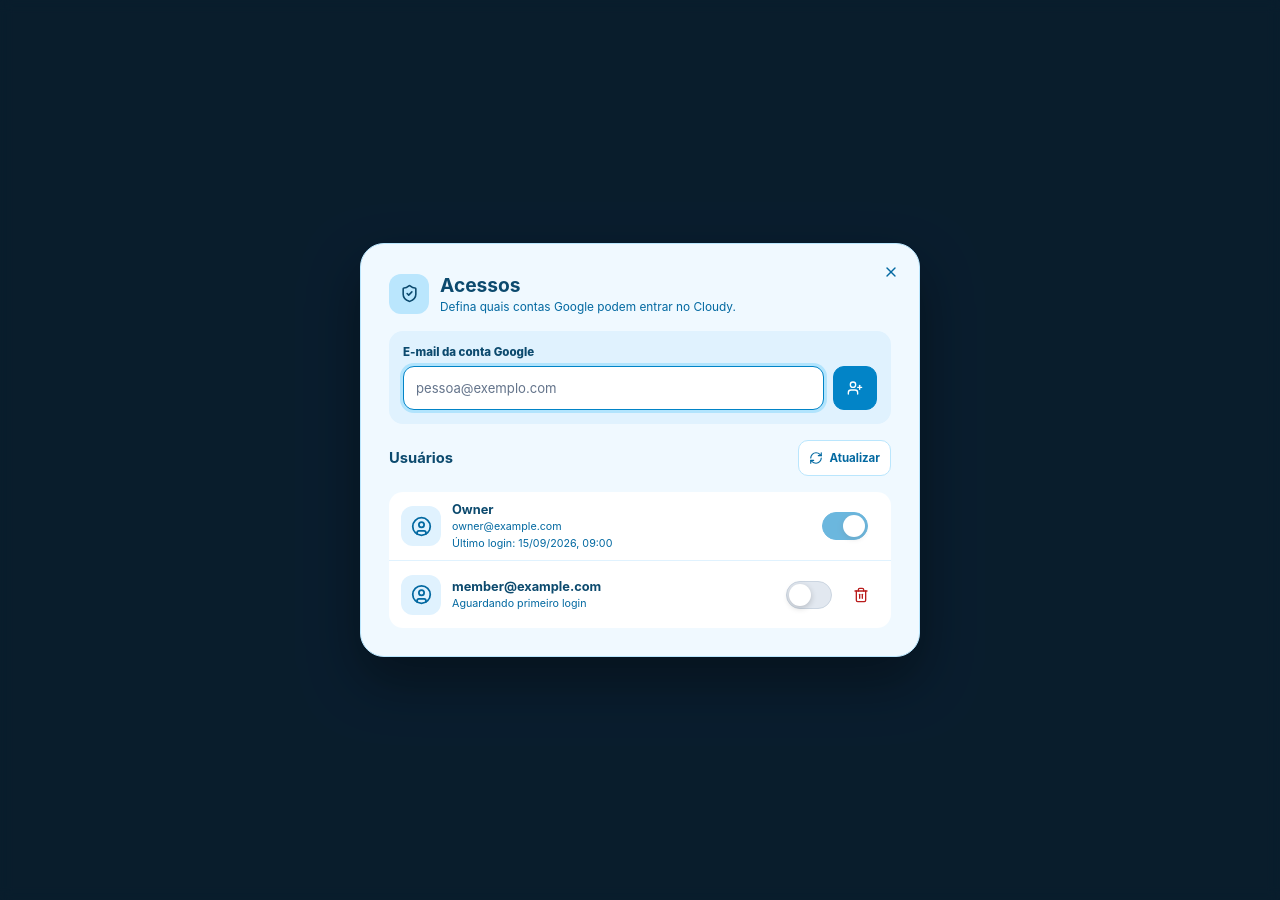
it: AccessAdminDialog › exclui um membro sem afetar o proprietário
Step 1. Click the button named "Excluir acesso de member@example.com" → (861, 595), box left=843, top=577, right=879, bottom=613
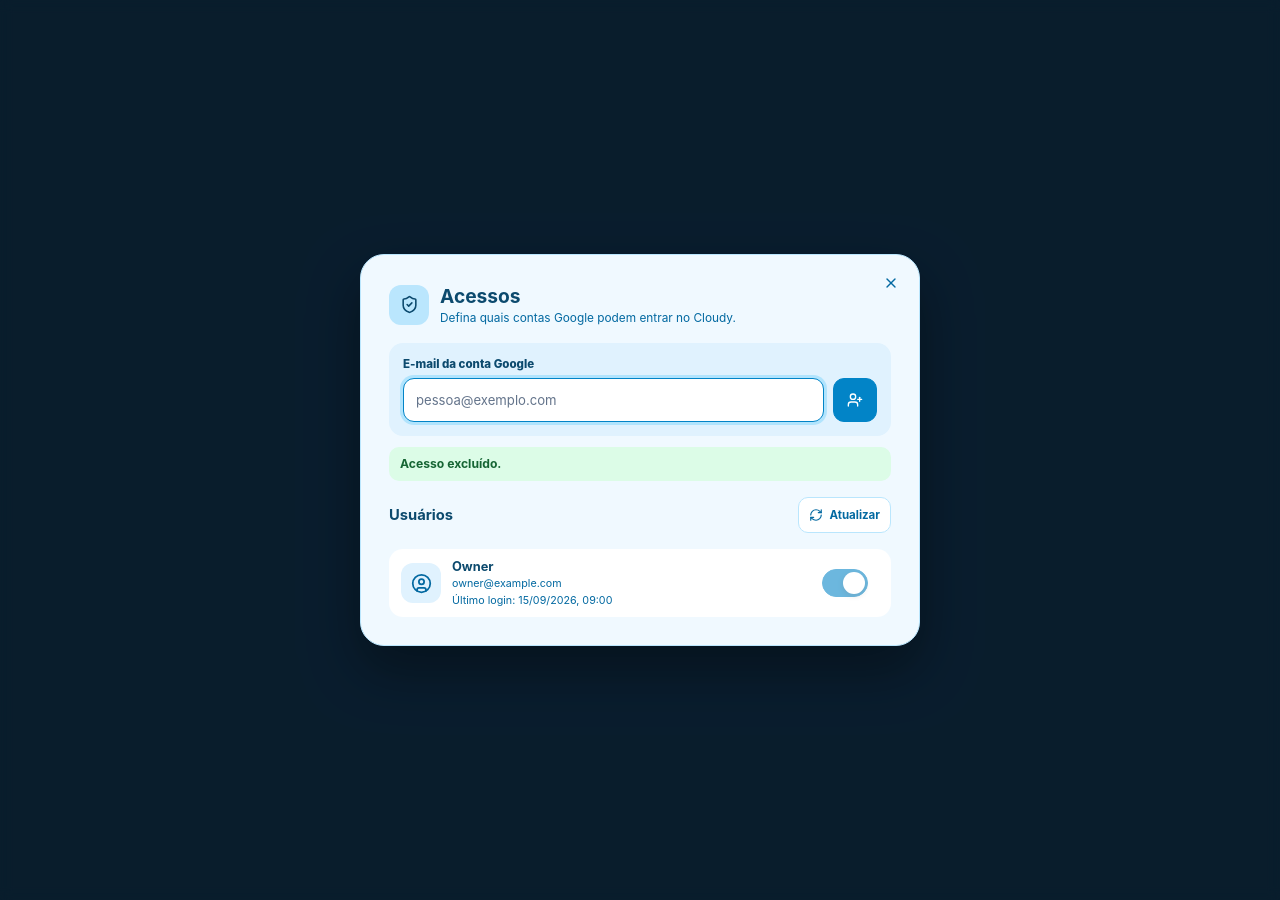
expect the text "Acesso excluído." is shown: met, box left=389, top=447, right=891, bottom=481
